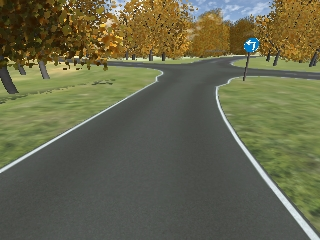left: (242, 36, 259, 53)
